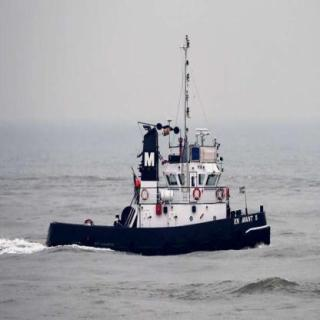Tug Boat: (71, 38, 266, 251)
